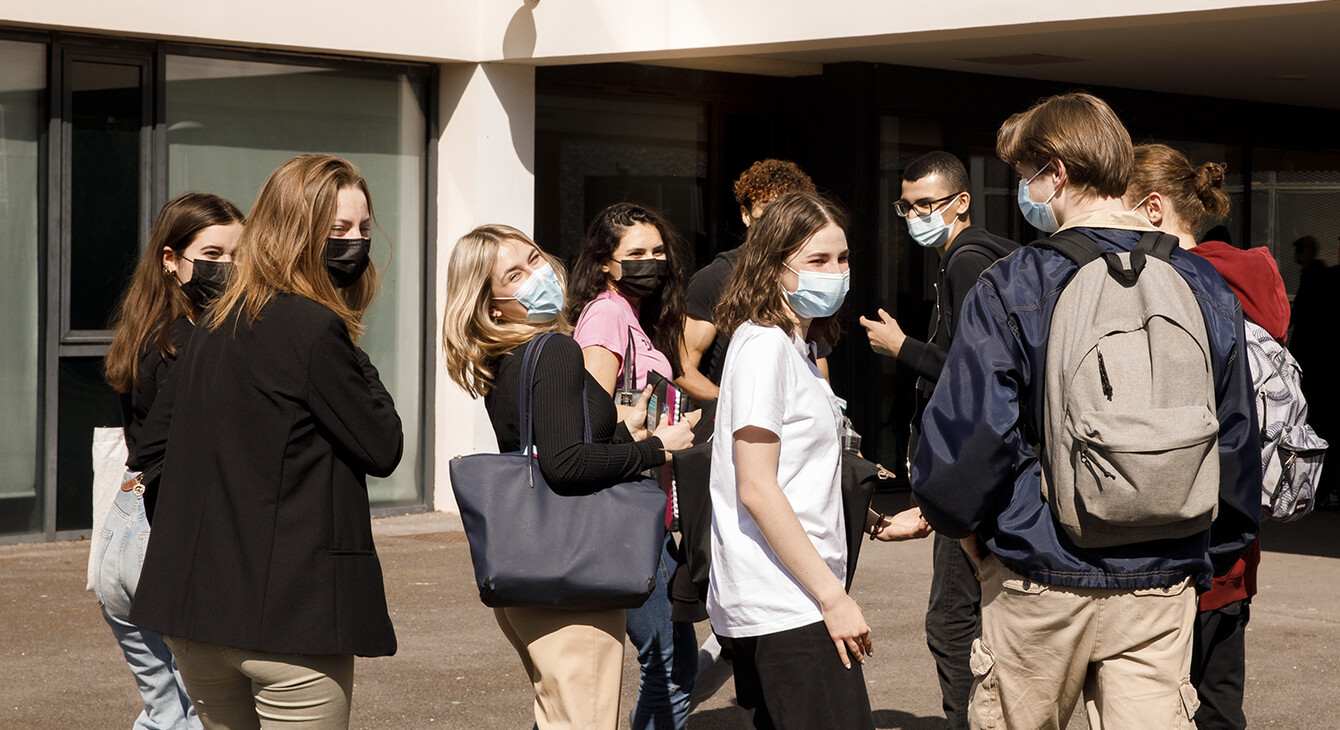with_mask: (772, 217, 853, 329), (157, 214, 247, 307), (489, 235, 563, 336), (314, 176, 370, 291), (893, 175, 968, 251), (603, 219, 666, 298), (1018, 149, 1074, 236)
